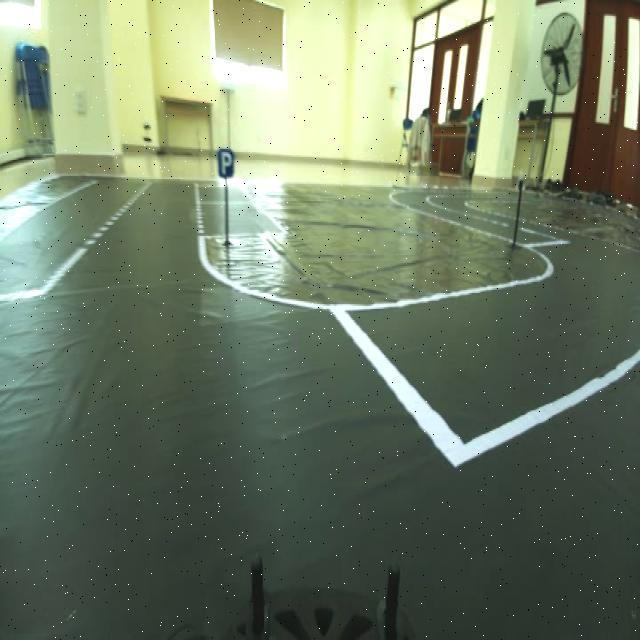parking: (205, 134, 242, 184)
